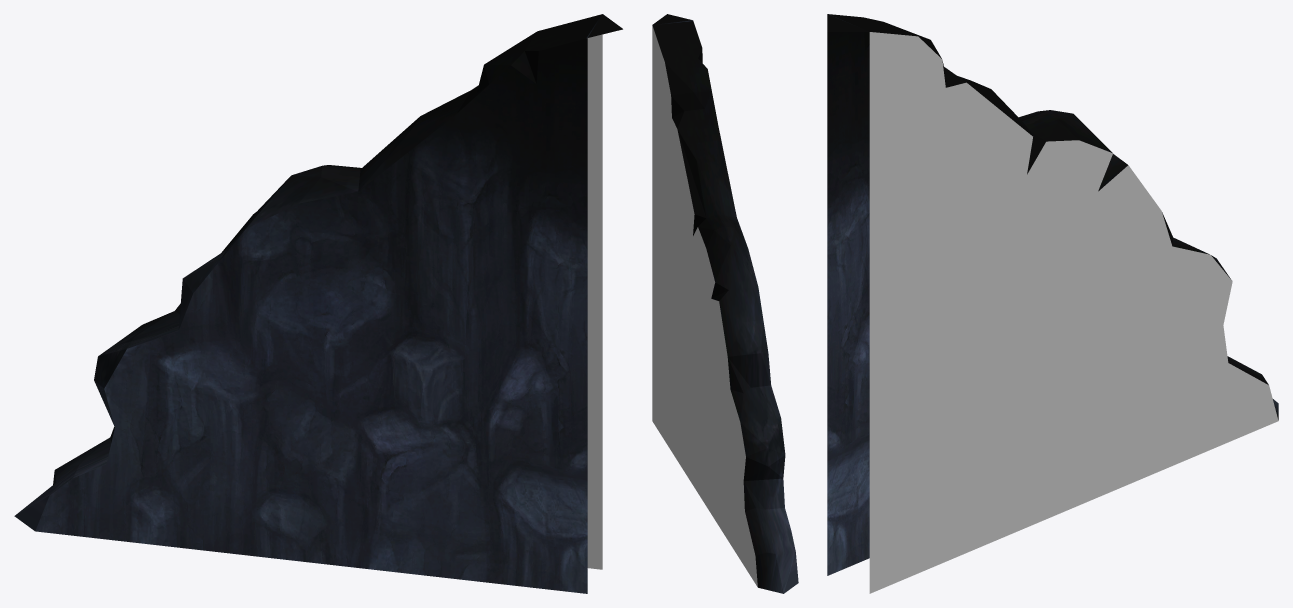
File: mine_fade_transition_09.fbx
The picture shows the model from 3 angles, left to right: view 1: azimuth 30°, elevation 25°; view 2: azimuth 150°, elevation 25°; view 3: azimuth 270°, elevation 25°; orthographic projection. The views are drawn at different scales.
Parts seen in each view (by area): view 1: mine_fade_transition_09-0; view 2: mine_fade_transition_09-0; view 3: mine_fade_transition_09-0.
Boxes of the visible parts, x1,y1,x2,y2 form: mine_fade_transition_09-0: (14, 14, 622, 593); mine_fade_transition_09-0: (652, 14, 798, 593); mine_fade_transition_09-0: (827, 14, 1278, 593).
Size of the model in its own units: 4 by 5.5 by 4.
